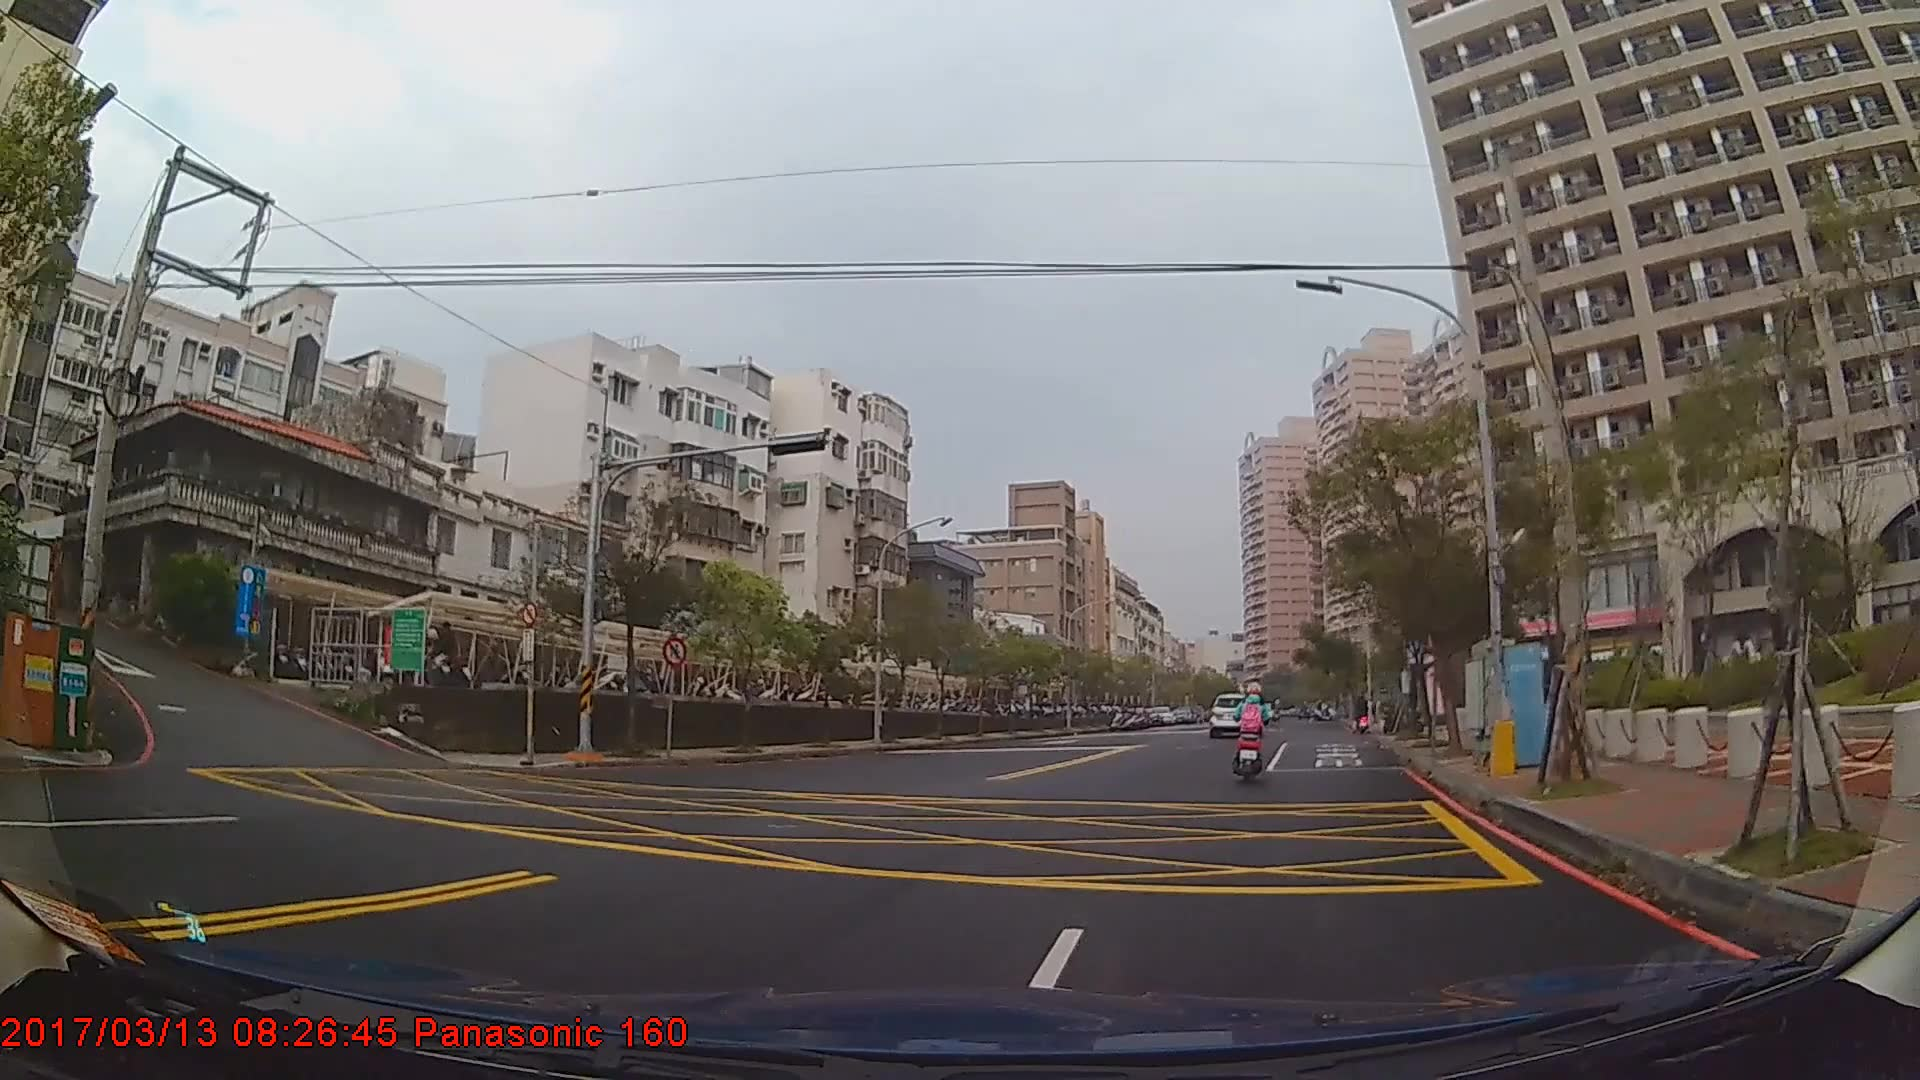rider: (1229, 680, 1275, 781)
vehicle: (1205, 690, 1254, 737)
